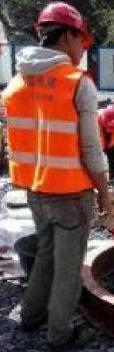boots: (48, 325, 96, 351), (0, 308, 22, 328)
hard-hat: (0, 18, 22, 54)
vest: (0, 56, 42, 192)
